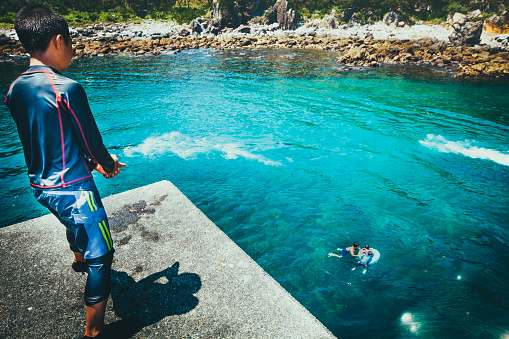em pe: (5, 0, 136, 339)
